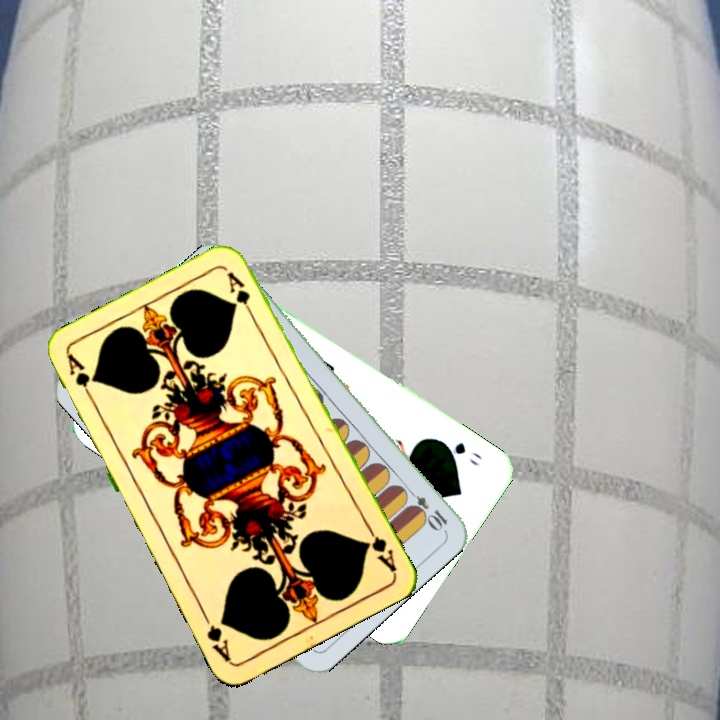E10: (401, 484, 450, 533)
GA: (360, 520, 399, 575), (63, 350, 98, 406)
GO: (436, 436, 484, 469)
